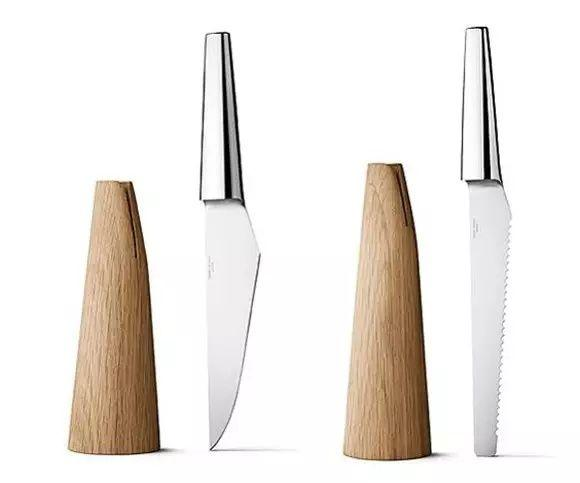knife: (152, 26, 338, 457), (426, 22, 575, 478)
